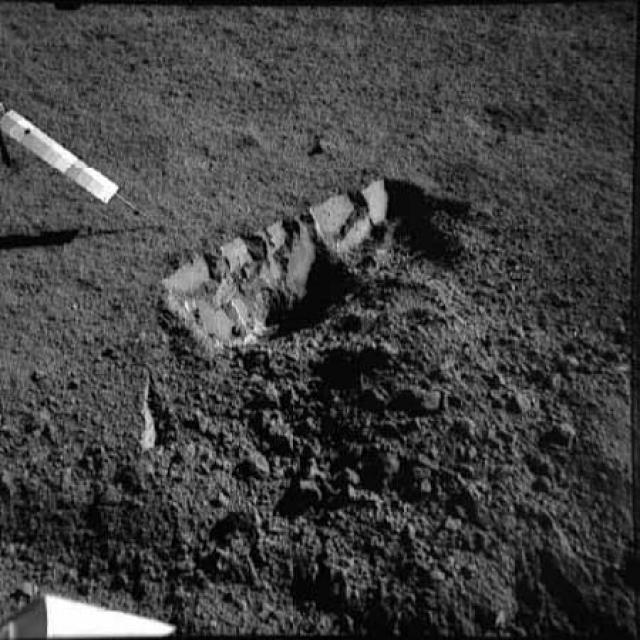artifact: (0, 100, 150, 252), (3, 573, 179, 639)
rock: (130, 371, 172, 461)
